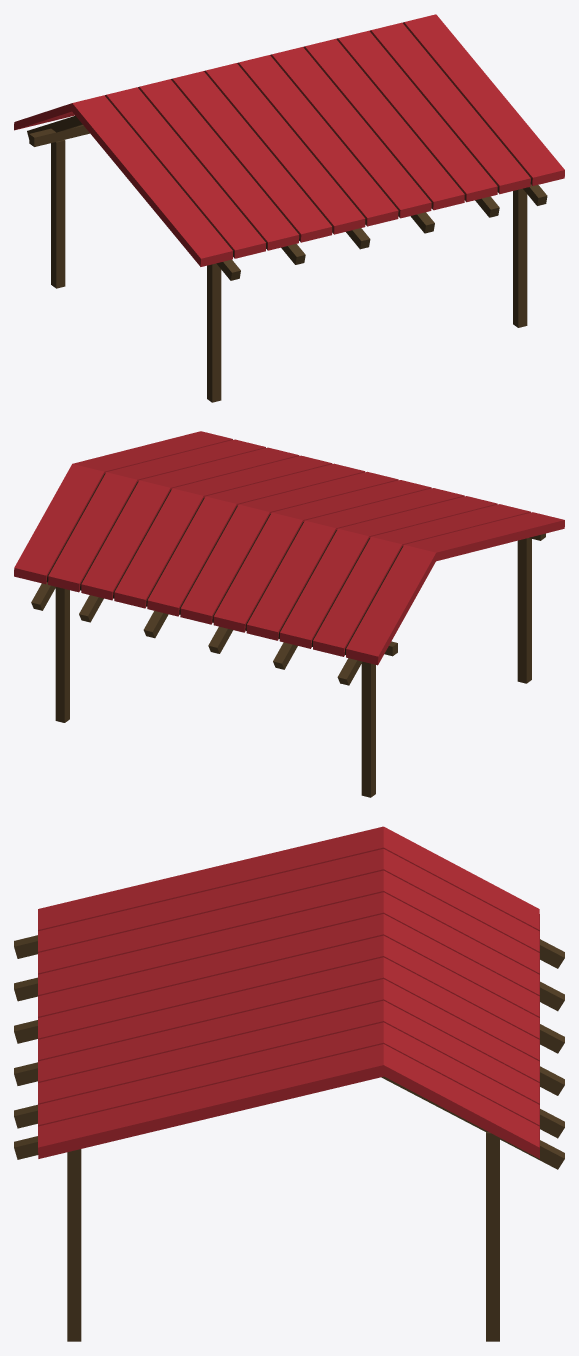
File: SM_WoodenConstruction_02.fbx
3 views of the same model, one above another, from view 1: azimuth 30°, elevation 25°; view 2: azimuth 150°, elevation 25°; view 3: azimuth 270°, elevation 25° (orthographic). The views are drawn at different scales.
Parts seen in each view (by area): view 1: SM_WoodenConstruction_02; view 2: SM_WoodenConstruction_02; view 3: SM_WoodenConstruction_02.
Part boxes in pixels (left/top/right/bottom): SM_WoodenConstruction_02: left=14, top=14, right=564, bottom=402; SM_WoodenConstruction_02: left=14, top=431, right=564, bottom=797; SM_WoodenConstruction_02: left=14, top=826, right=564, bottom=1341.
Bounding box in the file's own units: 792 × 455 × 773.
